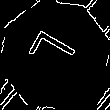L_SE: (25, 29, 85, 81)
